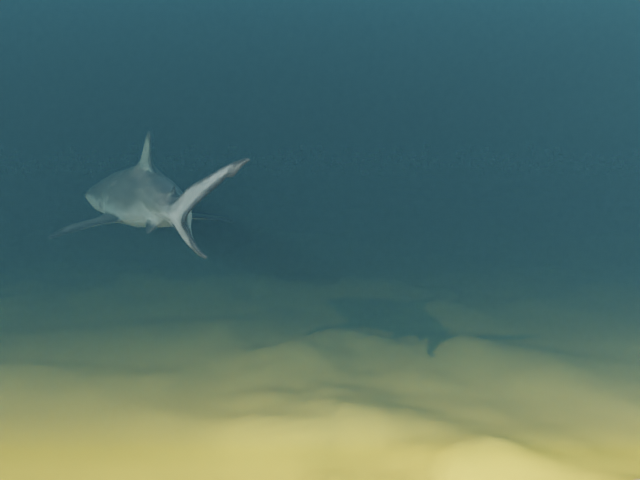Carribean Shark.001: (48, 130, 250, 258)
